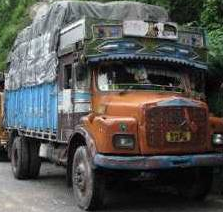truck: (4, 1, 222, 210)
